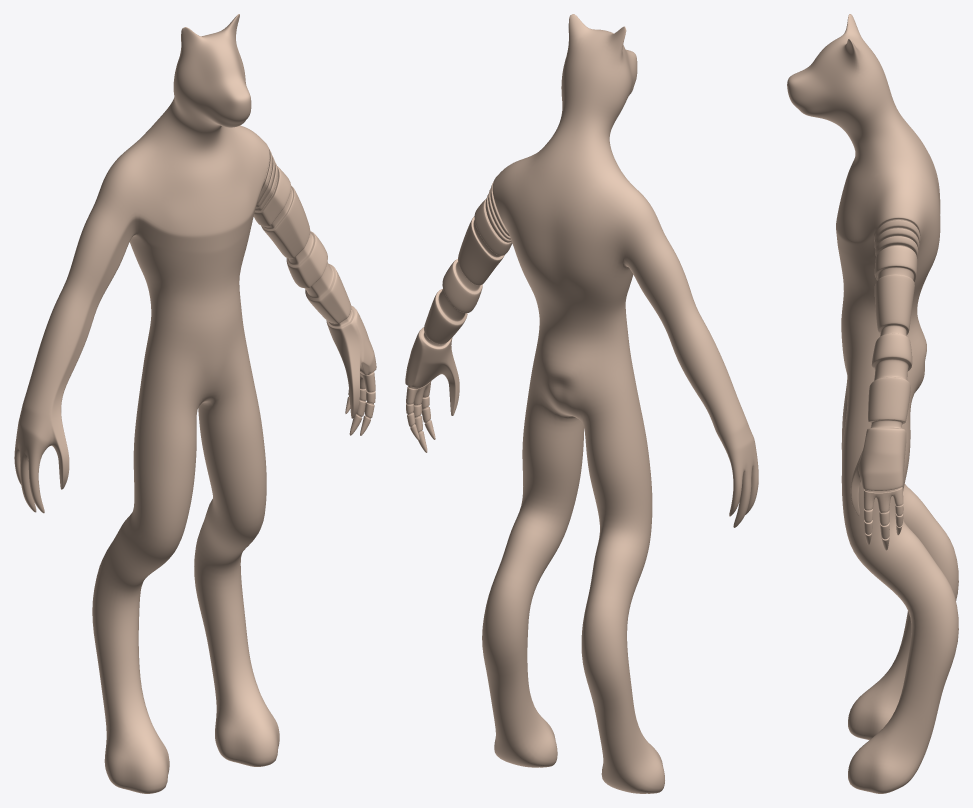
The model's file is P2_enemy.fbx.
The picture shows the model from 3 angles, left to right: view 1: azimuth 30°, elevation 25°; view 2: azimuth 150°, elevation 25°; view 3: azimuth 270°, elevation 25°; orthographic projection. The views are drawn at different scales.
Parts seen in each view (by area): view 1: polySurface2; view 2: polySurface2; view 3: polySurface2.
Part boxes in pixels (left/top/right/bottom): polySurface2: left=14, top=14, right=376, bottom=793; polySurface2: left=405, top=14, right=758, bottom=793; polySurface2: left=787, top=14, right=958, bottom=793.
Size of the model in its own units: 1.04 by 2.17 by 0.4604.
